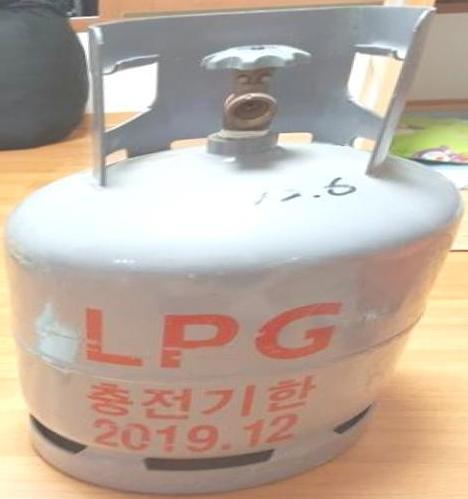cylinder: (0, 1, 468, 499)
